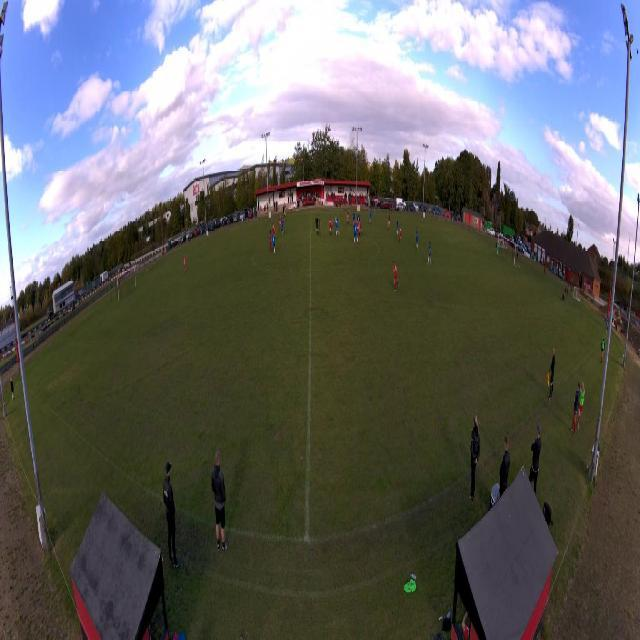player: (393, 259, 399, 293), (353, 221, 359, 247), (334, 215, 340, 236), (272, 233, 277, 255), (427, 241, 431, 266), (269, 230, 273, 254), (356, 219, 361, 237), (315, 215, 319, 236), (272, 221, 276, 241), (328, 217, 332, 236), (357, 219, 361, 238), (281, 217, 285, 235), (415, 227, 418, 251), (399, 225, 402, 246), (396, 216, 399, 236), (319, 216, 322, 235), (279, 214, 282, 233), (388, 214, 391, 231), (353, 211, 356, 228), (369, 208, 372, 225), (346, 209, 349, 225), (184, 255, 186, 274), (497, 242, 499, 256), (358, 213, 361, 222)
